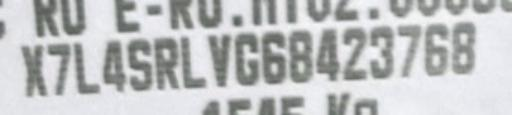letter: (394, 20, 424, 81), (178, 34, 208, 91), (422, 20, 450, 81), (450, 19, 478, 78), (314, 25, 342, 84), (152, 34, 180, 93), (72, 40, 102, 95), (19, 43, 49, 98), (368, 24, 396, 81), (341, 26, 369, 83), (286, 28, 314, 85), (232, 31, 260, 88), (100, 37, 128, 94), (126, 37, 154, 94), (44, 41, 72, 98), (260, 28, 286, 85), (206, 33, 230, 90)
